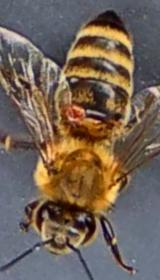varroa_mite: (62, 96, 91, 130)
